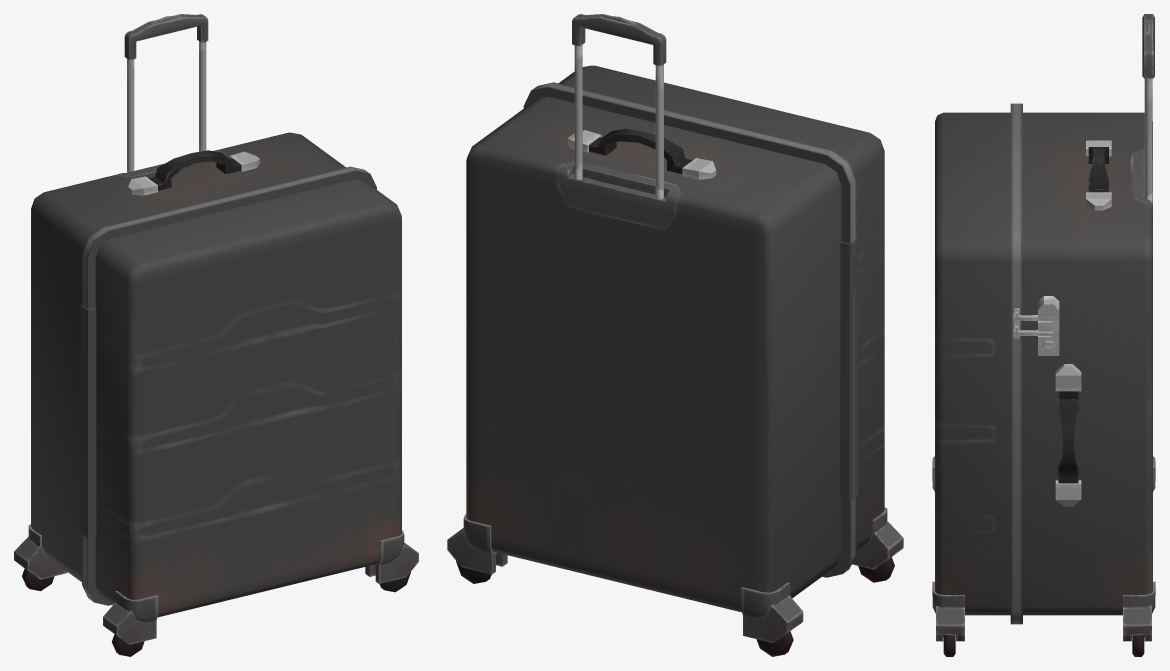
File: SuitCase.fbx
The picture shows the model from 3 angles, left to right: view 1: azimuth 30°, elevation 25°; view 2: azimuth 150°, elevation 25°; view 3: azimuth 270°, elevation 25°; orthographic projection. The views are drawn at different scales.
Visible parts, largest first — view 1: SuitCaseLid, SuitCase; view 2: SuitCase, SuitCaseLid; view 3: SuitCase, SuitCaseLid.
Part boxes in pixels (left/top/right/bottom): SuitCaseLid: left=84, top=169, right=418, bottom=656; SuitCase: left=14, top=14, right=367, bottom=599; SuitCase: left=447, top=14, right=853, bottom=656; SuitCaseLid: left=535, top=65, right=903, bottom=582; SuitCase: left=1016, top=14, right=1155, bottom=656; SuitCaseLid: left=932, top=103, right=1016, bottom=656.
Bounding box in the file's own units: 0.5025 × 0.833 × 0.2987.
